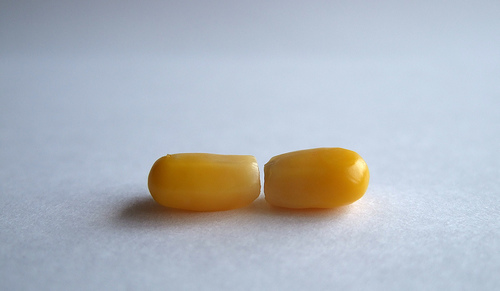corn: (145, 146, 370, 213)
